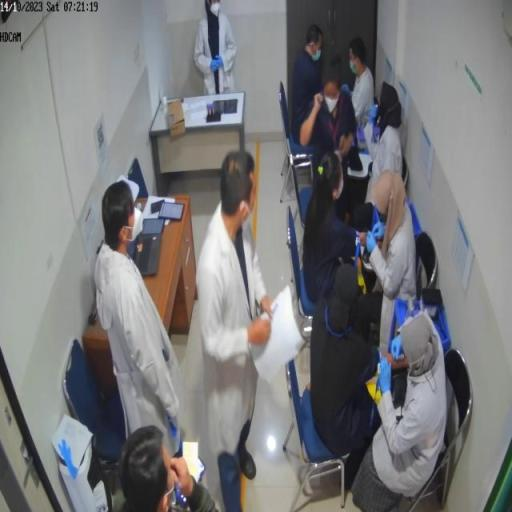person: (195, 150, 275, 507), (93, 182, 188, 462), (313, 265, 408, 487), (351, 314, 448, 511), (365, 176, 418, 356), (118, 426, 223, 512), (305, 156, 370, 292), (291, 31, 337, 167), (301, 66, 359, 163), (195, 1, 240, 96), (349, 38, 376, 127)
